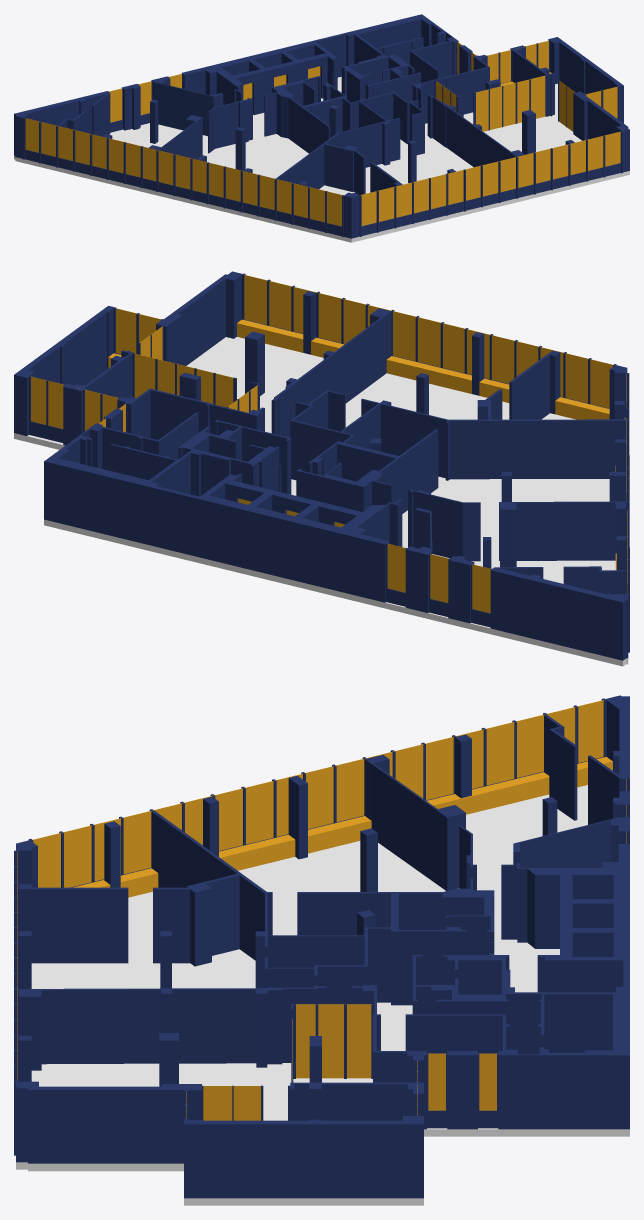
3 views of the same model, one above another, from view 1: azimuth 30°, elevation 25°; view 2: azimuth 150°, elevation 25°; view 3: azimuth 270°, elevation 25° (orthographic). The views are drawn at different scales.
Parts seen in each view (by area): view 1: Walls, Interior Member, Object_14; view 2: Walls, Interior Member, Object_14; view 3: Walls, Interior Member, Object_14.
Part boxes in pixels (box(x1,y1,x2,y2)): Walls: box(14, 14, 629, 238); Interior Member: box(25, 40, 620, 226); Object_14: box(14, 76, 629, 242); Walls: box(14, 271, 629, 660); Interior Member: box(31, 275, 627, 613); Object_14: box(14, 337, 628, 666); Walls: box(14, 695, 629, 1198); Interior Member: box(17, 700, 626, 1120); Object_14: box(16, 785, 629, 1205).
Bounding box in the file's own units: 1492 × 906 × 132.
